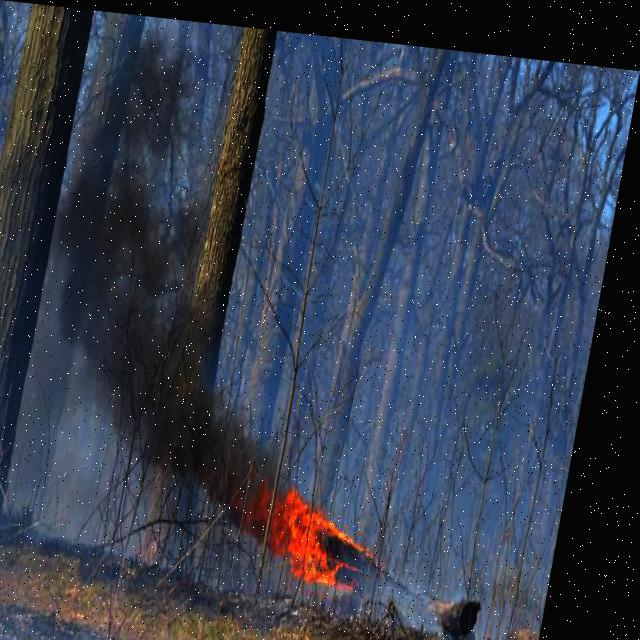Fire: (236, 470, 395, 581)
